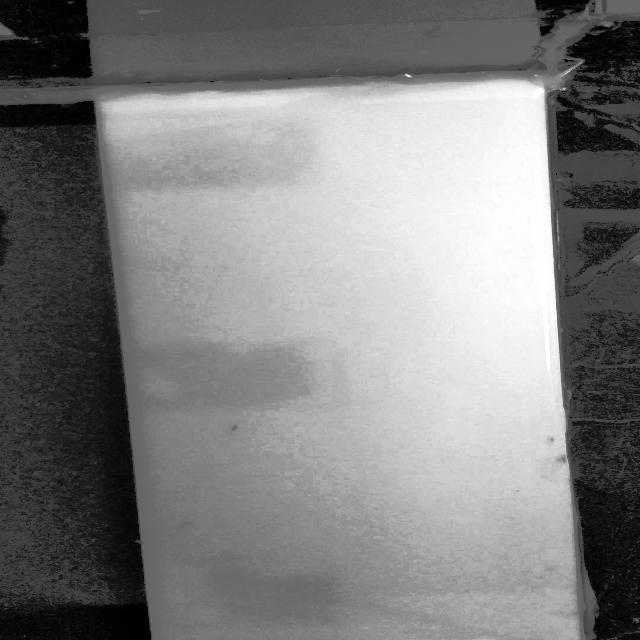shrimp: (132, 537, 168, 547), (222, 423, 245, 436), (173, 520, 194, 528)
